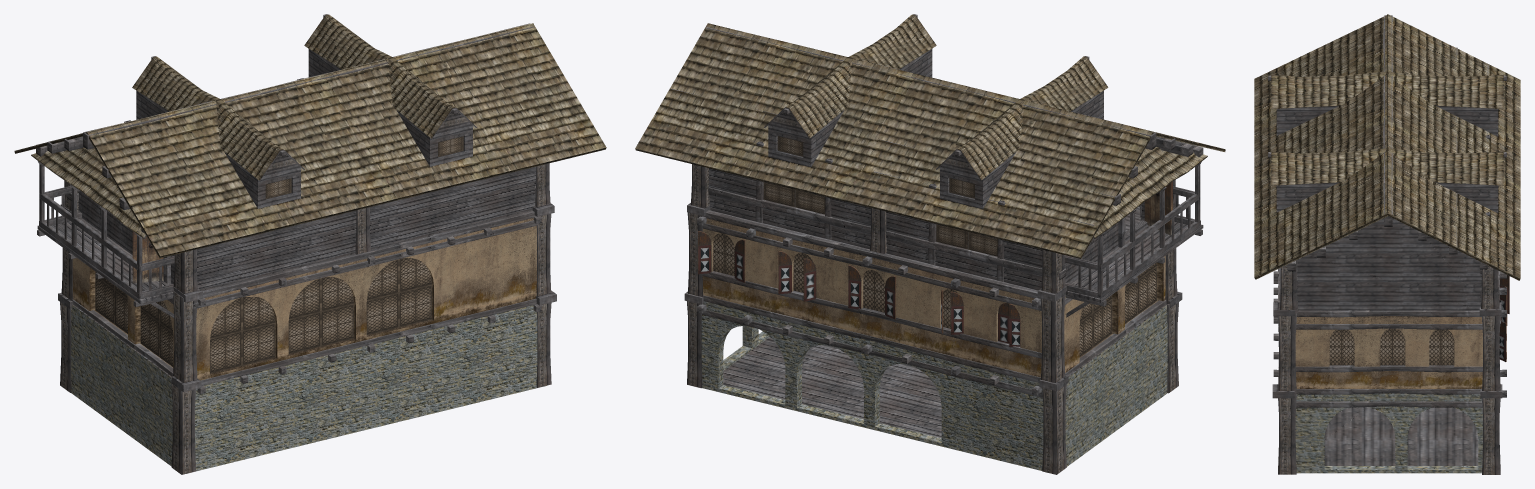
The model's file is tavern.dae.
3 renders of one model, left to right at view 1: azimuth 30°, elevation 25°; view 2: azimuth 150°, elevation 25°; view 3: azimuth 270°, elevation 25°, orthographic. The views are drawn at different scales.
Visible parts, largest first — view 1: house; view 2: house; view 3: house.
Boxes of the visible parts, <box> form: house: <box>14,14,606,474</box>; house: <box>635,14,1225,474</box>; house: <box>1254,14,1520,474</box>.
Bounding box in the file's own units: 28.1 × 18.47 × 15.86.
